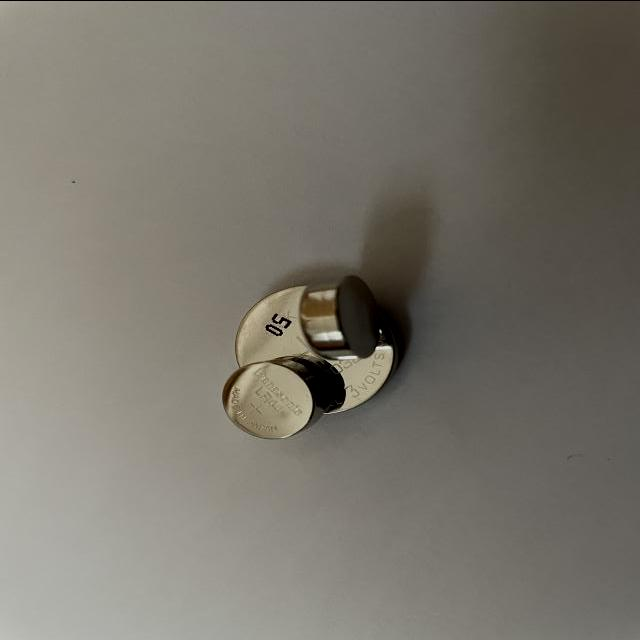COIN: (234, 278, 402, 416), (220, 357, 330, 439), (301, 270, 382, 366)
